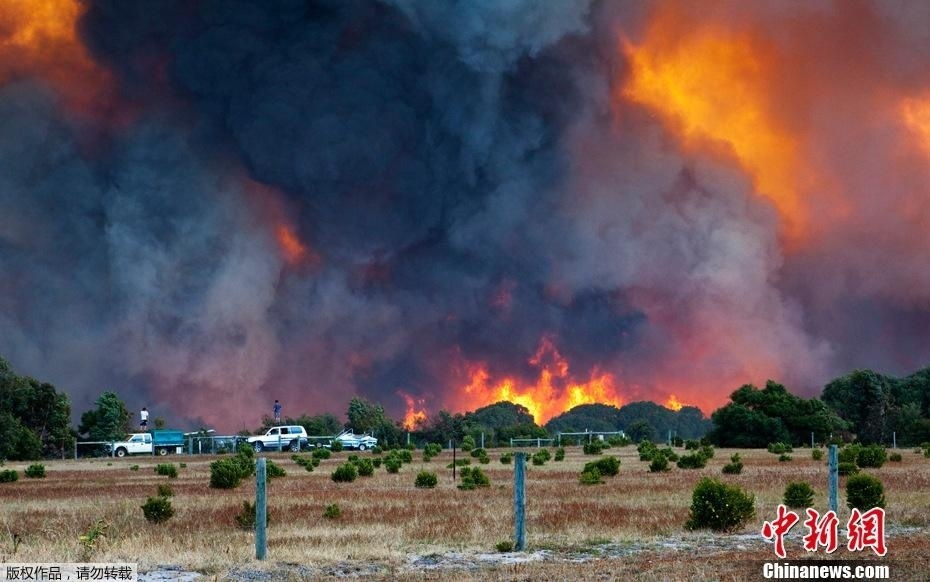fire: (618, 11, 818, 235), (427, 340, 720, 422), (398, 387, 428, 429)
